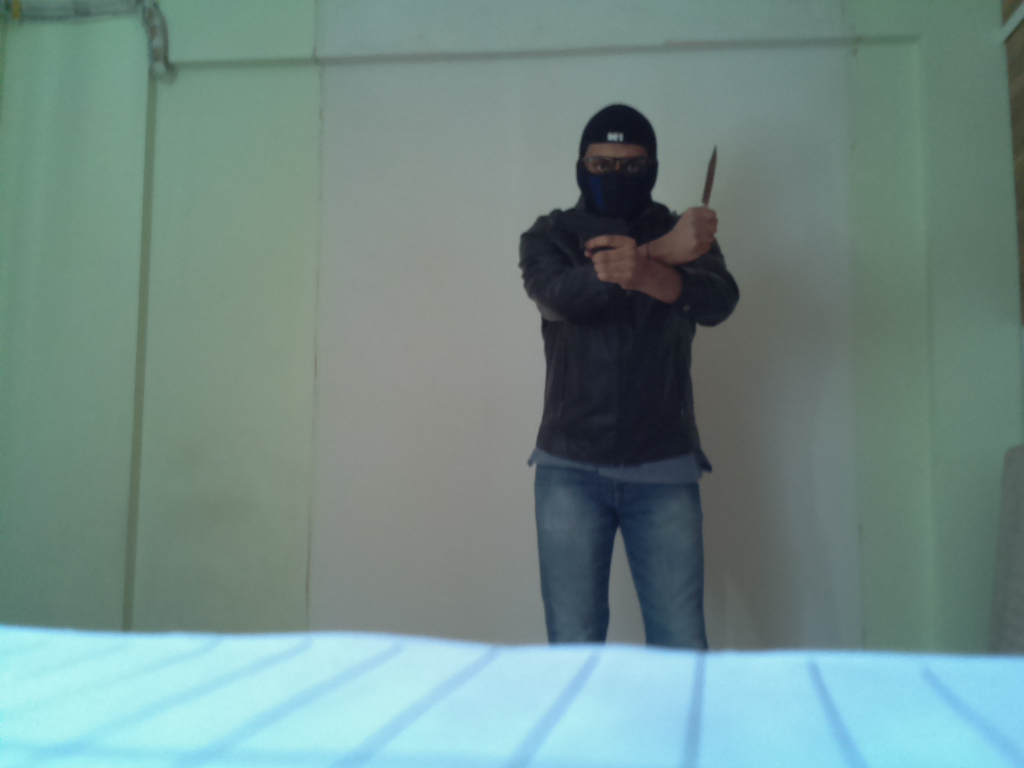knife: (697, 142, 723, 223)
